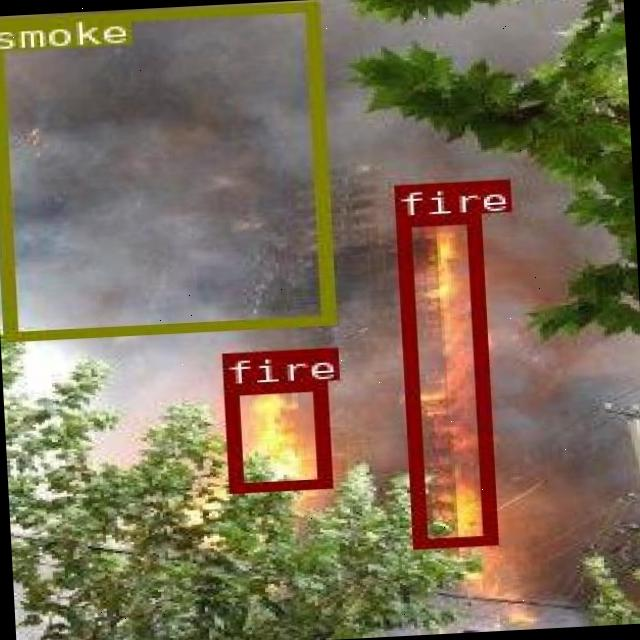fire: (395, 213, 496, 546), (222, 380, 330, 491)
smoke: (0, 0, 331, 339)
